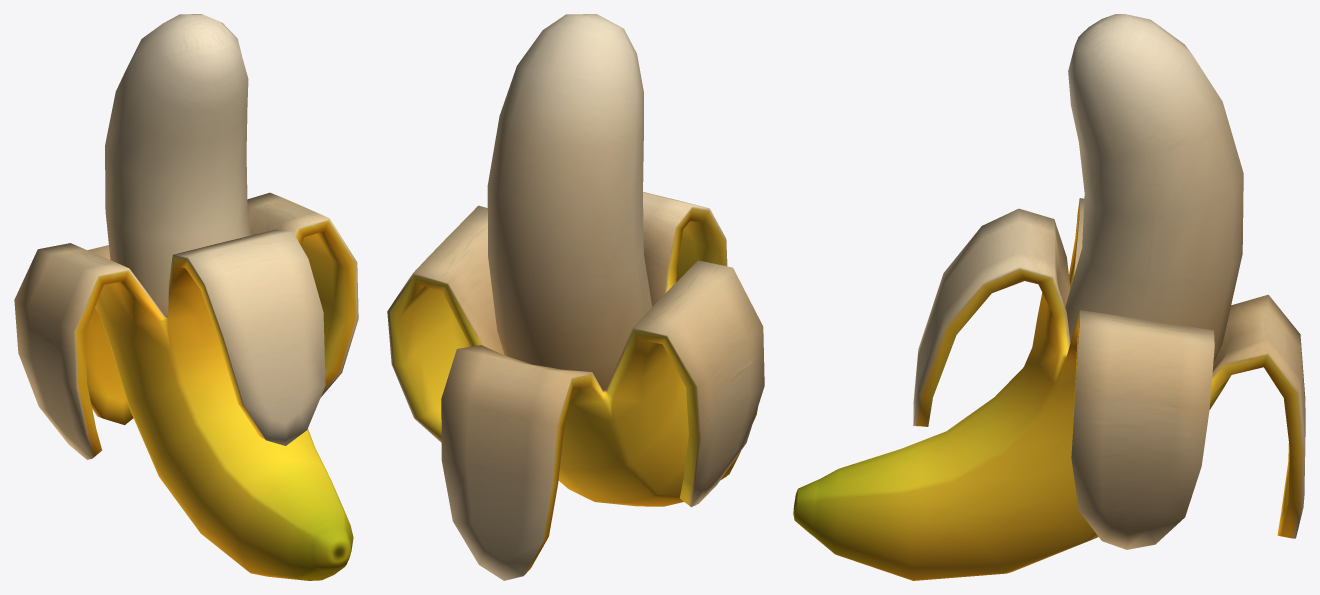
File: Banana.fbx
3 renders of one model, left to right at view 1: azimuth 30°, elevation 25°; view 2: azimuth 150°, elevation 25°; view 3: azimuth 270°, elevation 25°, orthographic. The views are drawn at different scales.
Visible parts, largest first — view 1: Banana; view 2: Banana; view 3: Banana.
Part boxes in pixels (box(x1,y1,x2,y2)): Banana: box(14, 14, 358, 580); Banana: box(387, 14, 764, 580); Banana: box(793, 14, 1305, 580).
Size of the model in its own units: 17.62 by 29.14 by 24.33.
